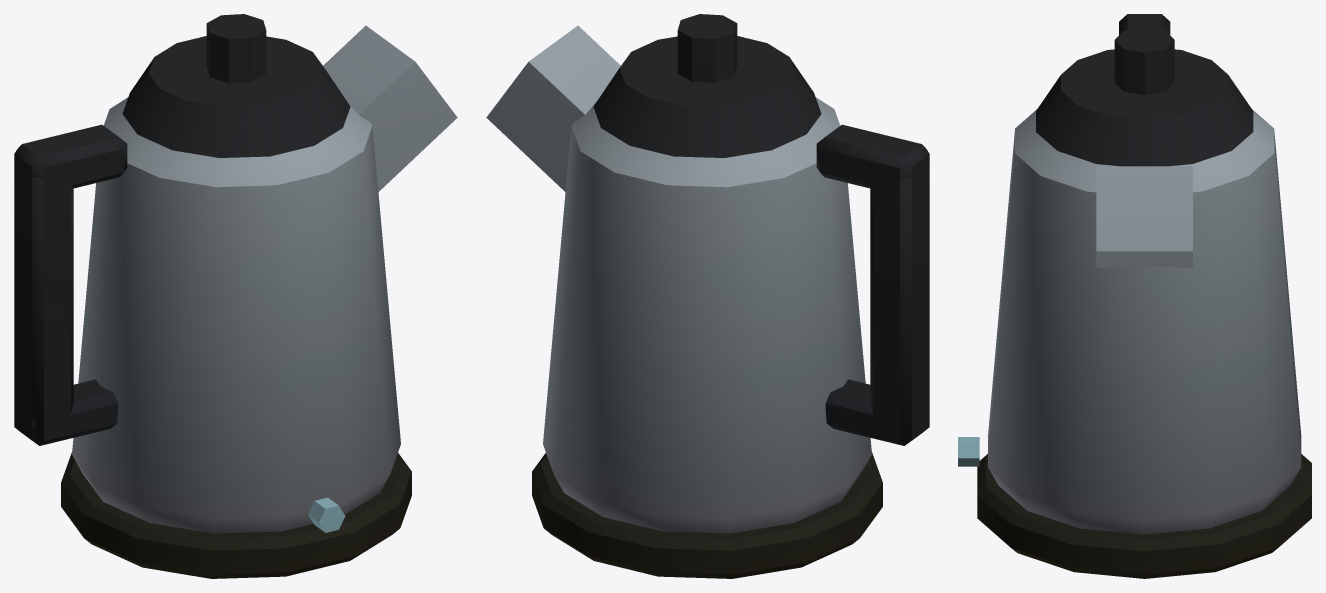
File: kettle.glb
3 views of the same model, side by side, from view 1: azimuth 30°, elevation 25°; view 2: azimuth 150°, elevation 25°; view 3: azimuth 270°, elevation 25° (orthographic). The views are drawn at different scales.
Visible parts, largest first — view 1: SM_Kettle_Electric_01; view 2: SM_Kettle_Electric_01; view 3: SM_Kettle_Electric_01.
Boxes of the visible parts, x1,y1,x2,y2 form: SM_Kettle_Electric_01: (14,14,457,578); SM_Kettle_Electric_01: (486,14,929,578); SM_Kettle_Electric_01: (958,14,1311,578).
Size of the model in its own units: 0.2151 by 0.242 by 0.165.
1 material, 1 textured.
